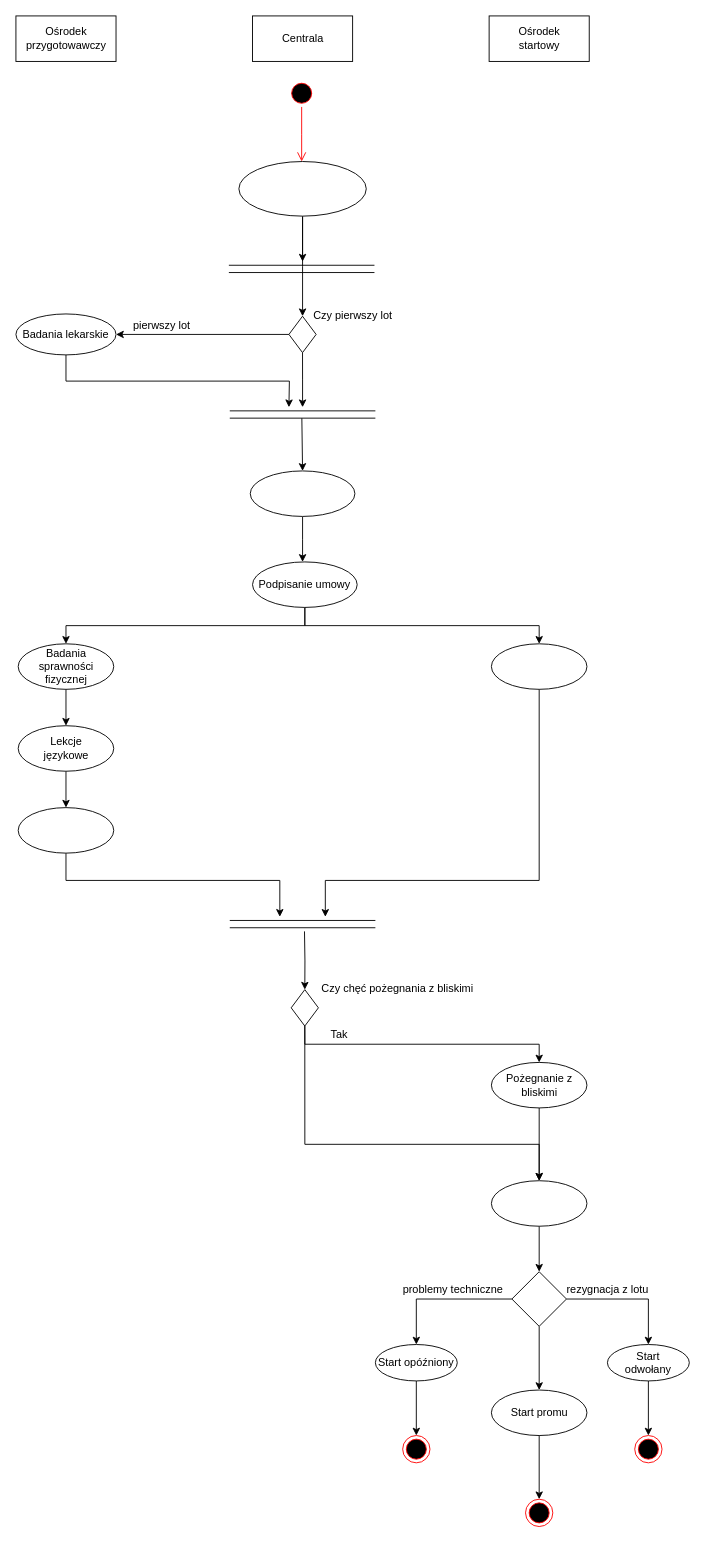
Image size: 705x1542. Some labels were removed from this diagram. Here are the shapes that lost their labels. From the top down, the centre of each, then its label:
At point 302,188: "Przedstawienie gwarancji finansowych".
At point 302,493: "Ustalenie szczegółów lotu".
At point 538,666: "Przygotowanie promu kosmicznego".
At point 65,830: "Szkolenie BHP".
At point 538,1203: "Bezpośrednie przygotowania".
